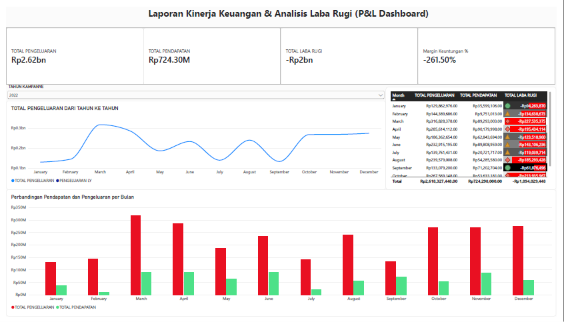

What the dashboard file says about the page in this screenshot:
{"tool":"powerbi","page":{"name":"Page 1","canvas":[1920,1080],"ordinal":0},"visuals":[{"type":"cardVisual","fields":{"Data":["_MEASURE.TOTAL PENGELUARAN","_MEASURE.TOTAL PENDAPATAN","_MEASURE.TOTAL LABA RUGI","_MEASURE.Margin Keuntungan %"]},"box":[0,72.5,1920,198.8],"z":0},{"type":"slicer","fields":{"Values":["campaigns2.Tanggal Mulai.Variation.Date Hierarchy.Year","campaigns2.Tanggal Mulai.Variation.Date Hierarchy.Quarter","campaigns2.Tanggal Mulai.Variation.Date Hierarchy.Month","campaigns2.Tanggal Mulai.Variation.Date Hierarchy.Day"]},"box":[0,270,1325,57.5],"z":1000},{"type":"lineChart","title":"TOTAL PENGELUARAN DARI TAHUN KE TAHUN","fields":{"Category":["campaigns2.Tanggal Mulai.Variation.Date Hierarchy.Year","campaigns2.Tanggal Mulai.Variation.Date Hierarchy.Quarter","campaigns2.Tanggal Mulai.Variation.Date Hierarchy.Month","campaigns2.Tanggal Mulai.Variation.Date Hierarchy.Day"],"Y":["_MEASURE.TOTAL PENGELUARAN","_MEASURE.PENGELUARAN LY"]},"box":[0,327.5,1325,310],"z":2000},{"type":"clusteredColumnChart","title":"Perbandingan Pendapatan dan Pengeluaran per Bulan","fields":{"Category":["campaigns2.Tanggal Mulai.Variation.Date Hierarchy.Month","campaigns2.Tanggal Mulai.Variation.Date Hierarchy.Day"],"Y":["_MEASURE.TOTAL PENGELUARAN","_MEASURE.TOTAL PENDAPATAN"]},"box":[0,637.5,1920,442.5],"z":3000},{"type":"tableEx","fields":{"Values":["campaigns2.Tanggal Mulai.Variation.Date Hierarchy.Month","_MEASURE.TOTAL PENGELUARAN","_MEASURE.TOTAL PENDAPATAN","_MEASURE.TOTAL LABA RUGI"]},"box":[1325,280,595,357.5],"z":4000},{"type":"textbox","box":[392.5,0,1185,72.5],"z":5000}]}

Visuals, with their boxes in screenshot pixels (x1, y1, x2, y2), scaled from the page's 1920x1080 canvas onto the 564x322 screenshot:
cardVisual - _MEASURE.TOTAL PENGELUARAN x _MEASURE.TOTAL PENDAPATAN: [0, 22, 563, 81]
slicer - campaigns2.Tanggal Mulai.Variation.Date Hierarchy.Year x campaigns2.Tanggal Mulai.Variation.Date Hierarchy.Quarter: [0, 80, 389, 98]
"TOTAL PENGELUARAN DARI TAHUN KE TAHUN" lineChart: [0, 98, 389, 190]
"Perbandingan Pendapatan dan Pengeluaran per Bulan" clusteredColumnChart: [0, 190, 563, 321]
tableEx - campaigns2.Tanggal Mulai.Variation.Date Hierarchy.Month x _MEASURE.TOTAL PENGELUARAN: [389, 83, 563, 190]
textbox: [115, 0, 463, 22]
